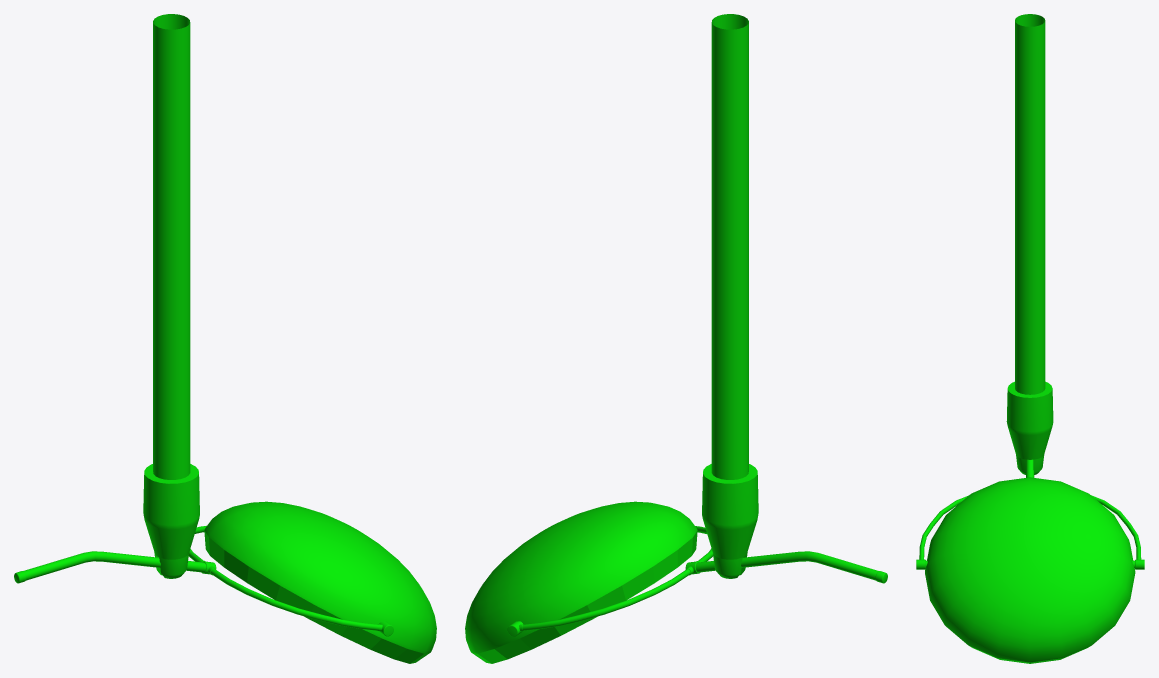
Rendered from PateintLight.fbx.
3 views of the same model, side by side, from view 1: azimuth 30°, elevation 25°; view 2: azimuth 150°, elevation 25°; view 3: azimuth 270°, elevation 25° (orthographic). The views are drawn at different scales.
Parts seen in each view (by area): view 1: Light; view 2: Light; view 3: Light.
Part boxes in pixels (bbox=[...]): Light: bbox=[14, 14, 436, 663]; Light: bbox=[465, 14, 887, 663]; Light: bbox=[916, 14, 1144, 663].
Bounding box in the file's own units: 2.07 × 3.34 × 1.25.
